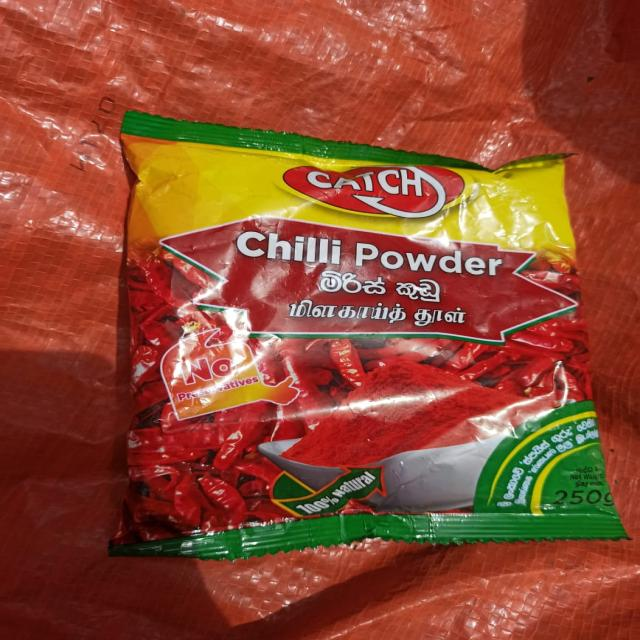Chilli Powder: (83, 78, 640, 606)
